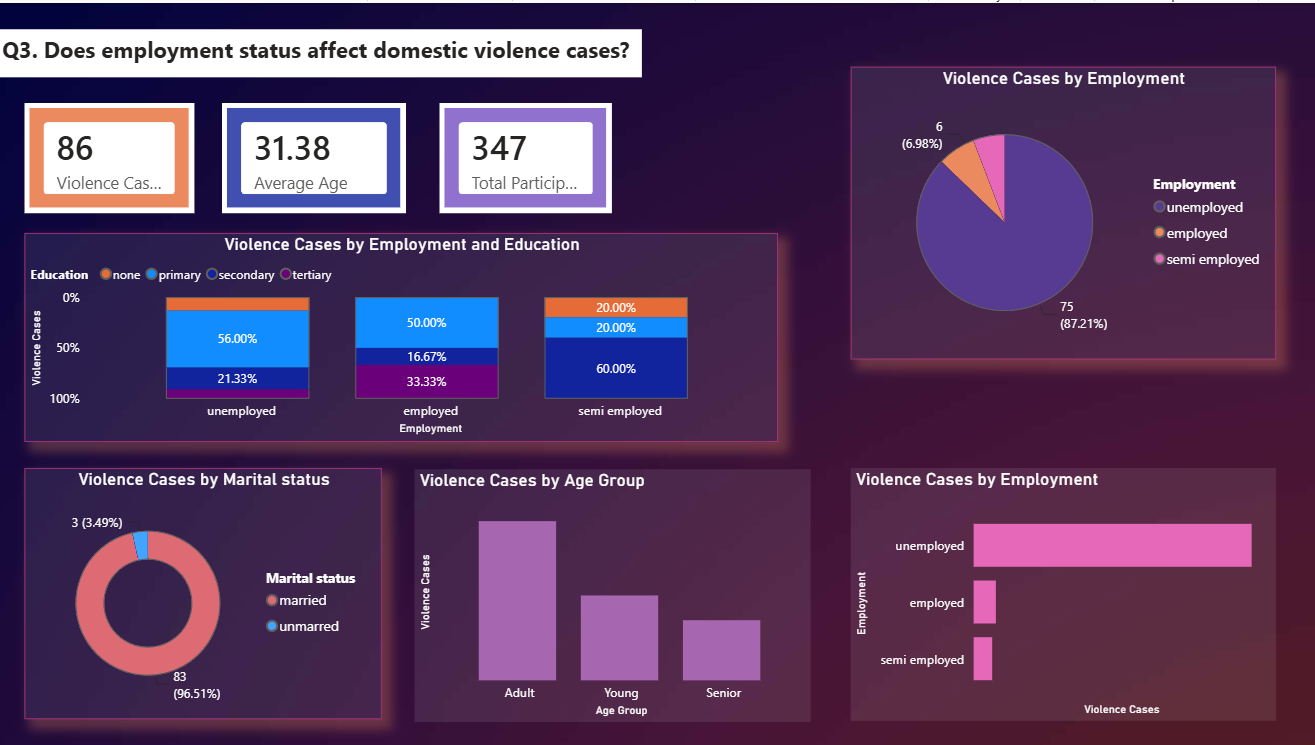

The dashboard page shown, as its layout file describes it:
{"tool":"powerbi","page":{"name":"Page 3","canvas":[1280,720],"ordinal":2},"visuals":[{"type":"textbox","box":[0,25,622.5,46.2],"z":1},{"type":"cardVisual","fields":{"Data":["Domestic violence.Violence Cases"]},"box":[26.2,96.2,163.8,106.2],"z":2},{"type":"cardVisual","fields":{"Data":["Domestic violence.Average Age"]},"box":[217.5,96.2,177.5,106.2],"z":3},{"type":"cardVisual","fields":{"Data":["Domestic violence.Total Participants"]},"box":[427.5,96.2,166.2,106.2],"z":4},{"type":"pieChart","fields":{"Category":["Domestic violence.Employment "],"Y":["Domestic violence.Violence Cases"]},"box":[823.8,61.2,410,282.5],"z":5},{"type":"donutChart","fields":{"Category":["Domestic violence.Marital status "],"Y":["Domestic violence.Violence Cases"]},"box":[26.2,448.8,345,242.5],"z":8},{"type":"hundredPercentStackedColumnChart","fields":{"Category":["Domestic violence.Employment "],"Series":["Domestic violence.Education "],"Y":["Domestic violence.Violence Cases"]},"box":[26.2,222.5,727.5,201.2],"z":9},{"type":"barChart","fields":{"Category":["Domestic violence.Employment "],"Y":["Domestic violence.Violence Cases"]},"box":[824,449,410,244],"z":11},{"type":"clusteredColumnChart","fields":{"Category":["Domestic violence.Age Group"],"Y":["Domestic violence.Violence Cases"]},"box":[402.5,450,382.5,243.8],"z":12}]}

Visuals, with their boxes in screenshot pixels (x1, y1, x2, y2), scaled from the page's 1280x720 canvas onto the 1315x745 screenshot:
textbox: [0, 26, 640, 74]
cardVisual - Domestic violence.Violence Cases: [27, 100, 195, 209]
cardVisual - Domestic violence.Average Age: [223, 100, 406, 209]
cardVisual - Domestic violence.Total Participants: [439, 100, 610, 209]
pieChart - Domestic violence.Employment  x Domestic violence.Violence Cases: [846, 63, 1268, 356]
donutChart - Domestic violence.Marital status  x Domestic violence.Violence Cases: [27, 464, 381, 715]
hundredPercentStackedColumnChart - Domestic violence.Employment  x Domestic violence.Education : [27, 230, 774, 438]
barChart - Domestic violence.Employment  x Domestic violence.Violence Cases: [847, 465, 1268, 717]
clusteredColumnChart - Domestic violence.Age Group x Domestic violence.Violence Cases: [414, 466, 806, 718]
